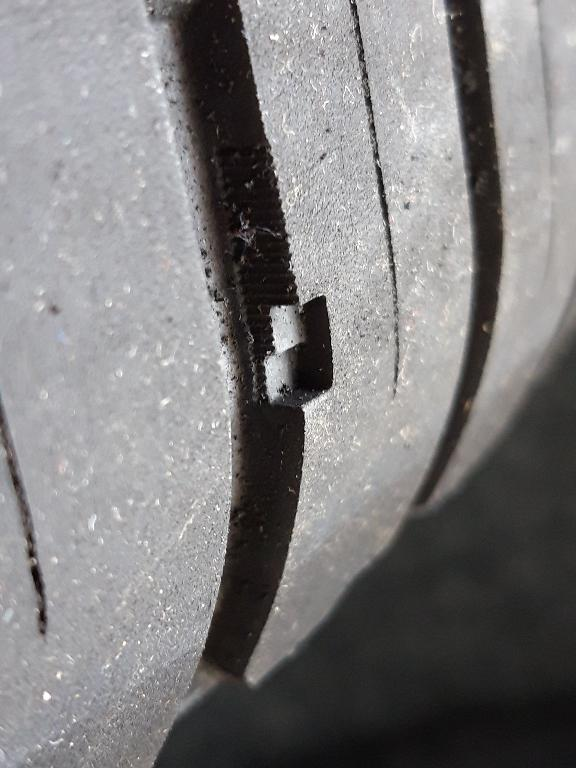temoin:50: (238, 258, 342, 417)
